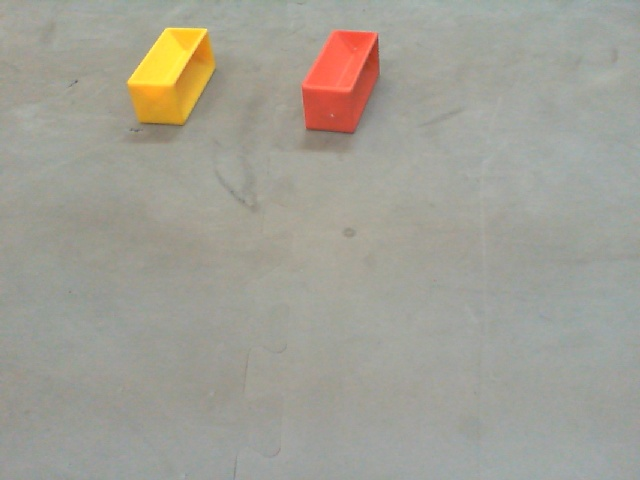RedSample: (298, 28, 381, 136)
YellowSample: (125, 25, 218, 130)
